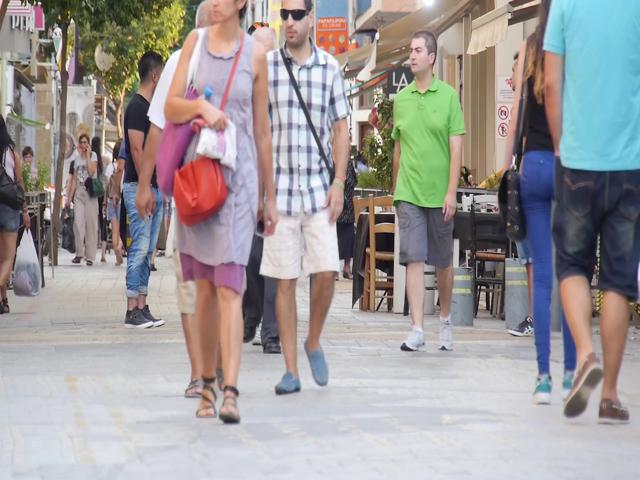shoe: (563, 352, 603, 417), (304, 339, 329, 386), (196, 380, 218, 417), (599, 398, 629, 424), (219, 387, 240, 423), (399, 328, 427, 352), (124, 308, 154, 329), (529, 376, 552, 403), (273, 372, 301, 394), (507, 317, 534, 336), (438, 320, 454, 351), (260, 337, 282, 354)
